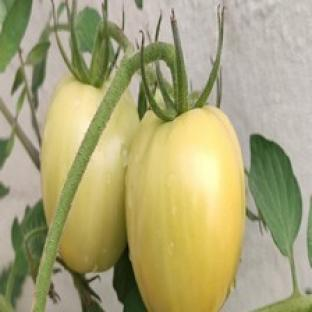Tomato: (126, 106, 245, 311), (59, 91, 139, 272)
